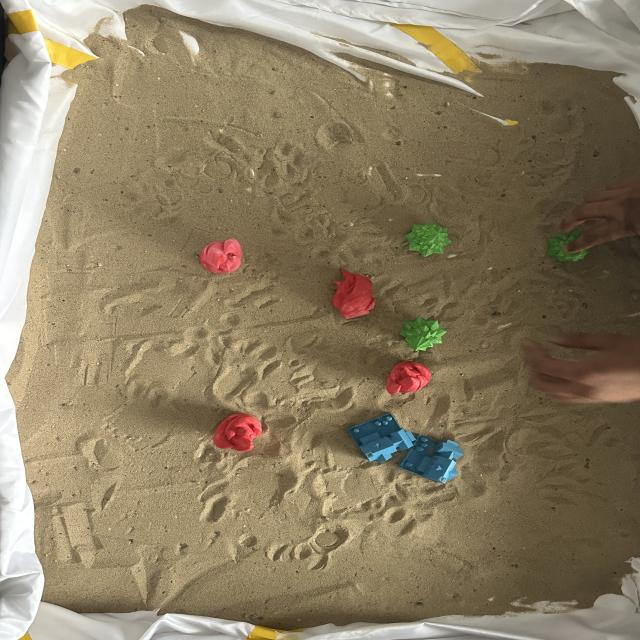fire: (334, 270, 377, 320), (211, 412, 263, 452), (198, 237, 244, 274), (386, 360, 432, 395)
house: (347, 413, 417, 462), (400, 434, 464, 482)
tree: (398, 316, 447, 351), (406, 221, 452, 258), (546, 229, 592, 263)
